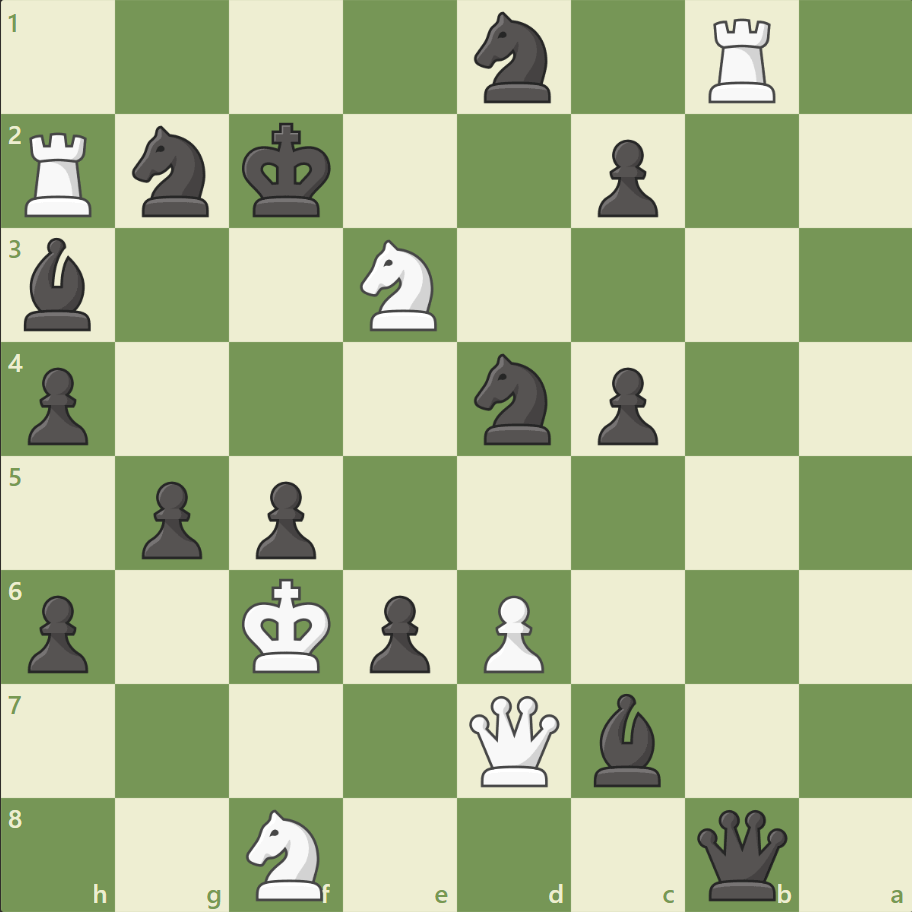K: (238, 571, 338, 679)
N: (351, 234, 449, 337), (238, 802, 335, 904)
P: (474, 586, 549, 677)
Q: (464, 690, 563, 789)
R: (19, 125, 102, 222), (700, 12, 783, 109)
b: (585, 687, 669, 790), (17, 233, 101, 336)
k: (238, 117, 338, 225)
n: (124, 121, 222, 223), (465, 7, 562, 110), (465, 348, 562, 450)
p: (20, 586, 95, 677), (247, 473, 322, 564), (133, 473, 208, 564), (20, 359, 95, 450), (361, 586, 435, 677), (588, 359, 662, 450), (588, 132, 662, 223)
q: (691, 804, 790, 903)
